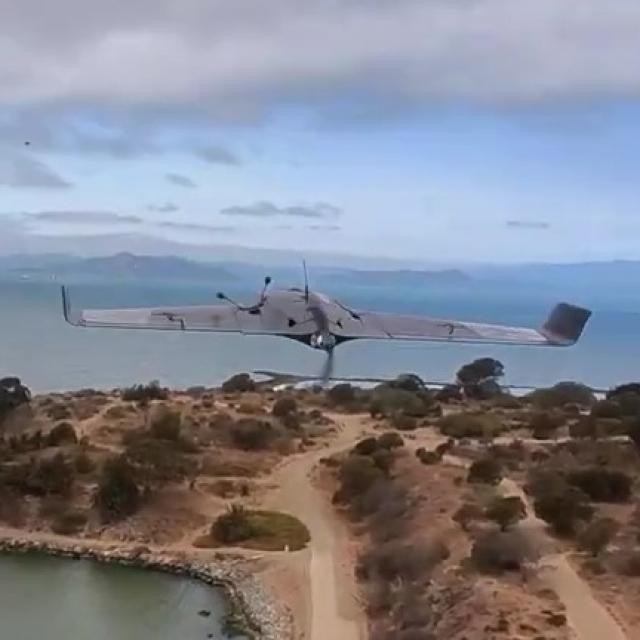iha: (44, 299, 596, 341)
